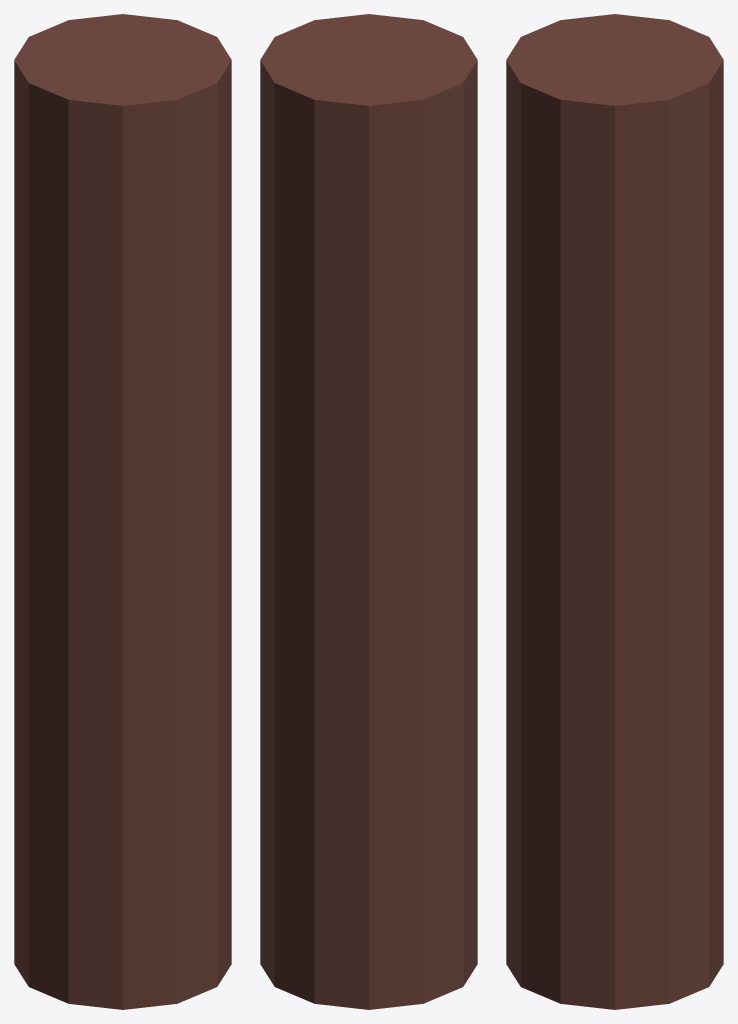
File: sakura_kanzan_collision.glb
3 views of the same model, side by side, from view 1: azimuth 30°, elevation 25°; view 2: azimuth 150°, elevation 25°; view 3: azimuth 270°, elevation 25° (orthographic).
Parts seen in each view (by area): view 1: Kanzan trunk collision; view 2: Kanzan trunk collision; view 3: Kanzan trunk collision.
Part boxes in pixels (left/top/right/bottom): Kanzan trunk collision: left=14, top=14, right=231, bottom=1009; Kanzan trunk collision: left=260, top=14, right=477, bottom=1009; Kanzan trunk collision: left=506, top=14, right=723, bottom=1009.
Bounding box in the file's own units: 0.6 × 2.75 × 0.6.
